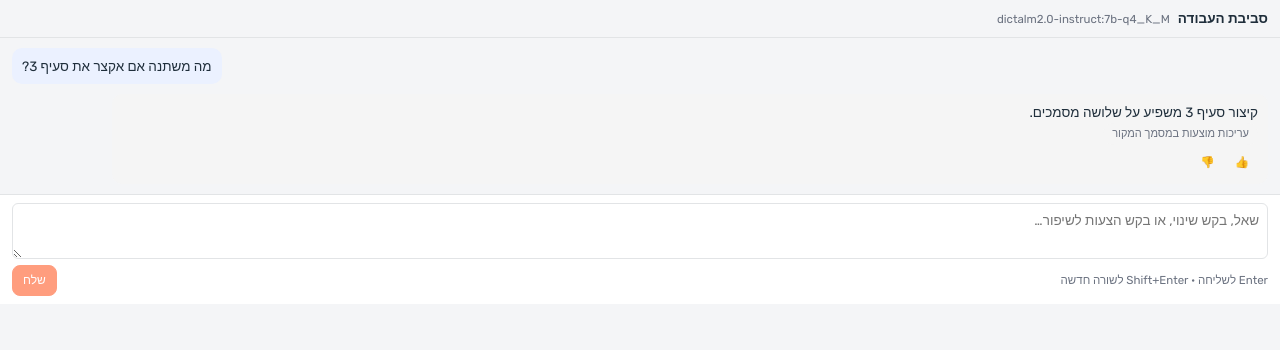
Scenario: <ChatPane> › shows a rate-limit error and leaves the composer usable
Type "x" into the text box named "הודעה למערכת" at (640, 231), box [12,203,1268,259]
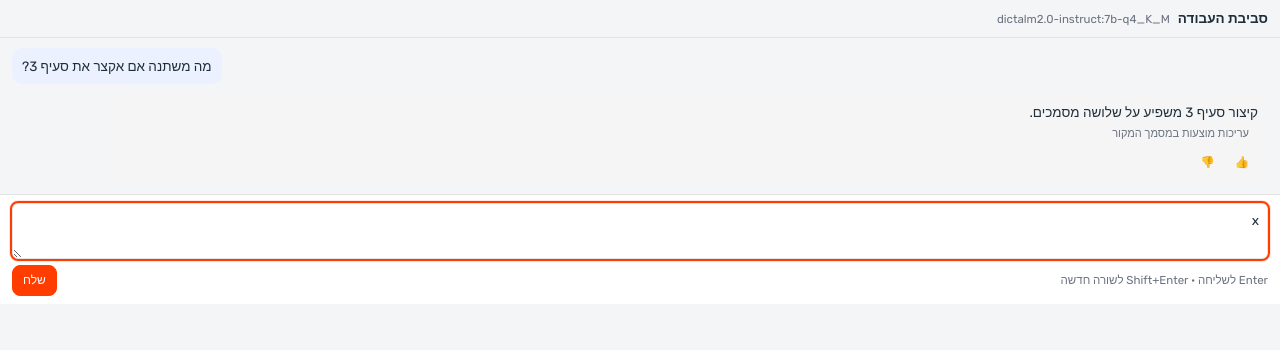
Press Enter
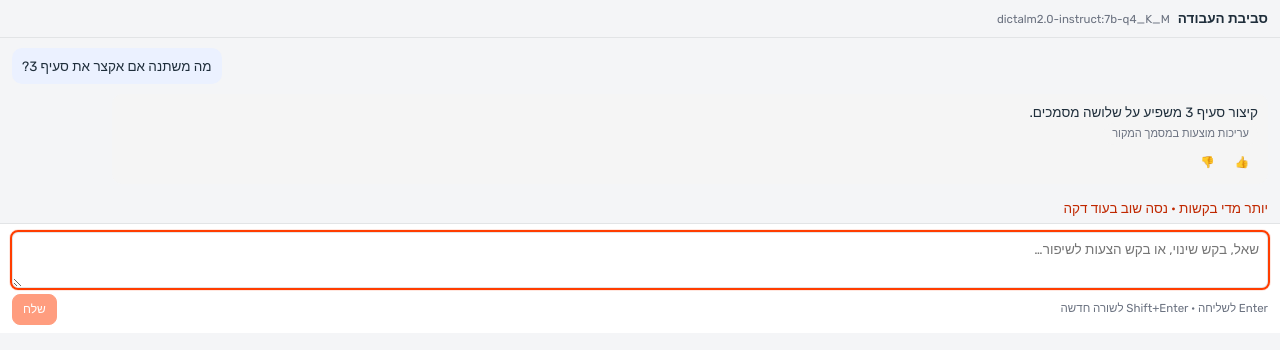
expect the text box named "הודעה למערכת" is enabled: met, box [12,232,1268,288]
expect the message shows "יותר מדי בקשות": met, box [1064,200,1268,216]
